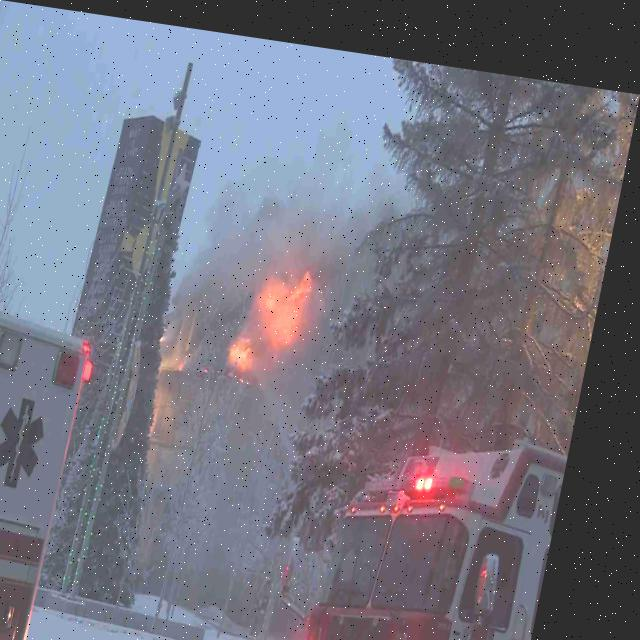Fire: (224, 235, 338, 392)
